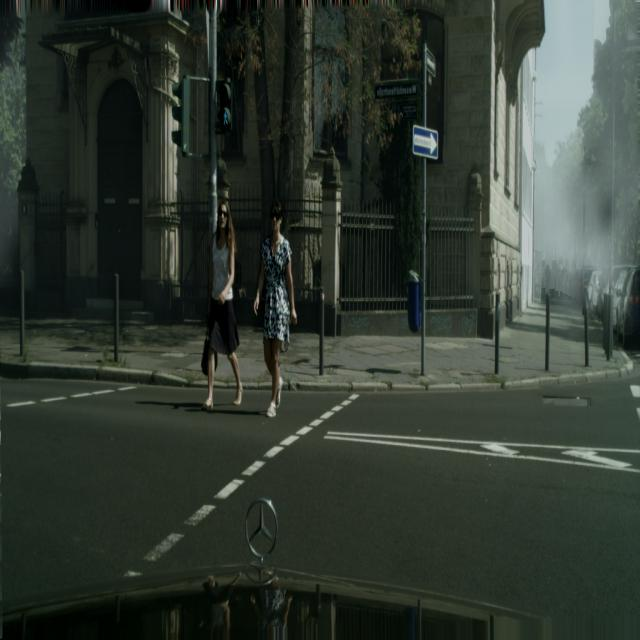person: (253, 198, 298, 419), (201, 200, 243, 411)
truck: (605, 264, 634, 328), (621, 268, 640, 348), (588, 269, 605, 316), (581, 268, 595, 309)
